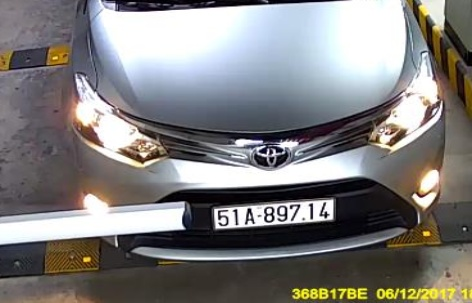plate: (208, 199, 338, 235)
